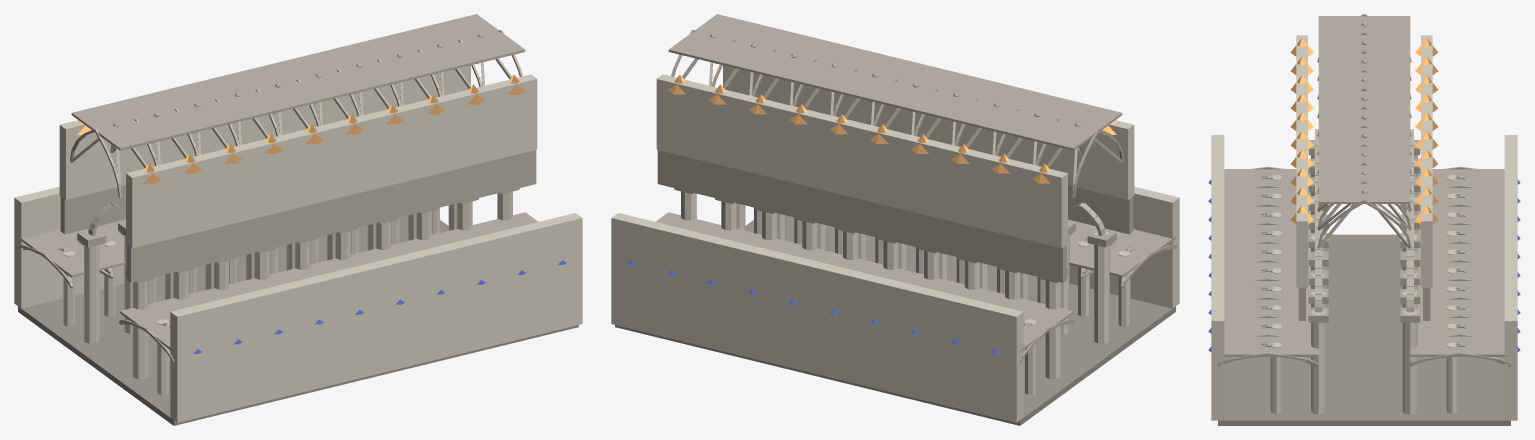
Rendered from 02_nave.glb.
3 views of the same model, side by side, from view 1: azimuth 30°, elevation 25°; view 2: azimuth 150°, elevation 25°; view 3: azimuth 270°, elevation 25° (orthographic). The views are drawn at different scales.
Parts seen in each view (by area): view 1: nave_stone, nave_stoneshaded_nocol, nave_stonedark, nave_glasswarm_nocol; view 2: nave_stone, nave_stoneshaded_nocol, nave_stonedark, nave_glasswarm_nocol; view 3: nave_stoneshaded_nocol, nave_stonedark, nave_stone, nave_glasswarm_nocol, nave_stoneshaded, nave_glassblue_nocol.
Boxes of the visible parts, x1,y1,x2,y2 form: nave_stone: (14,65,582,422); nave_stoneshaded_nocol: (16,14,538,362); nave_stonedark: (18,215,578,425); nave_glasswarm_nocol: (77,74,525,183); nave_stone: (611,65,1179,422); nave_stoneshaded_nocol: (655,14,1177,362); nave_stonedark: (615,215,1175,425); nave_glasswarm_nocol: (668,74,1116,183); nave_stoneshaded_nocol: (1217,14,1511,367); nave_stonedark: (1218,234,1510,425); nave_stone: (1211,35,1517,420); nave_glasswarm_nocol: (1290,38,1438,223); nave_stoneshaded: (1315,129,1413,312); nave_glassblue_nocol: (1208,179,1520,351).
Size of what is drawn, in the model's own units: 60.41 by 34.1 by 42.6.
